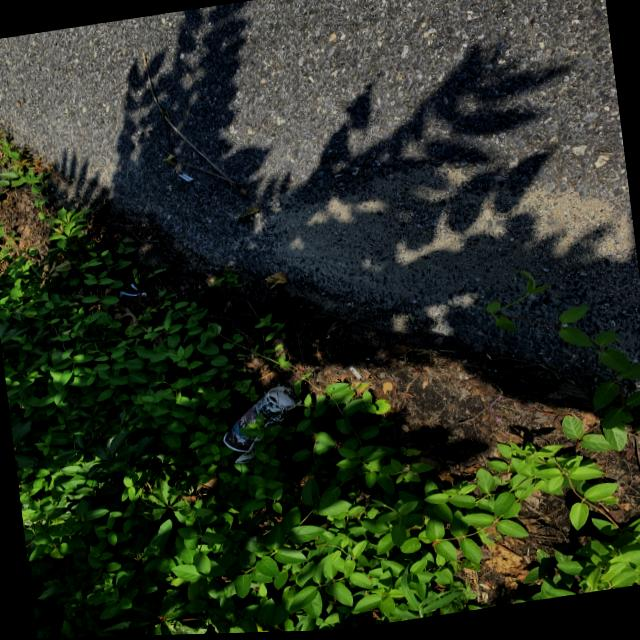Cup: (212, 378, 306, 469)
